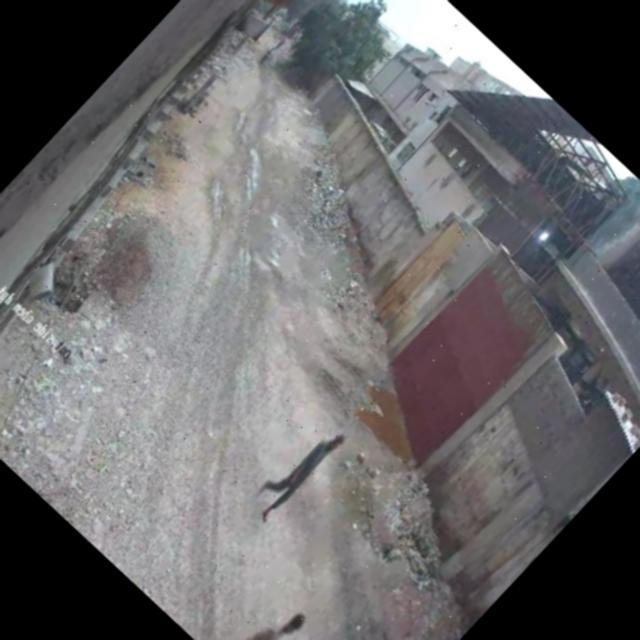person: (247, 418, 350, 524), (211, 581, 316, 640)
